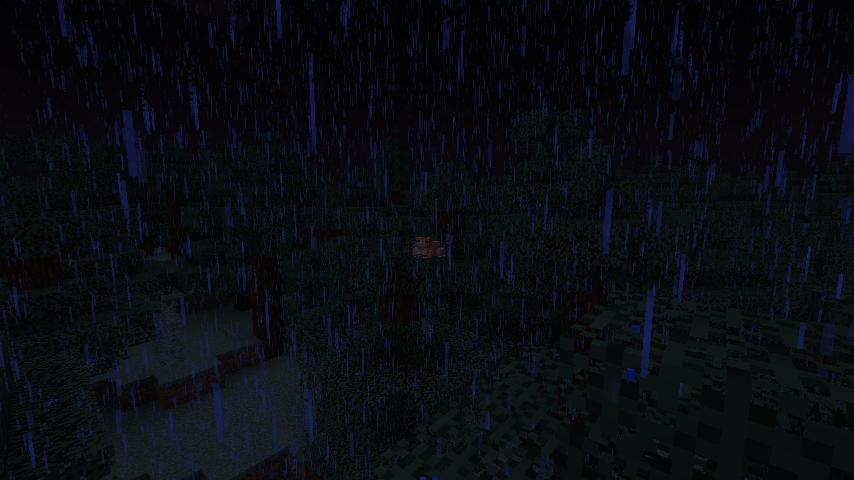frog: (409, 232, 447, 263)
